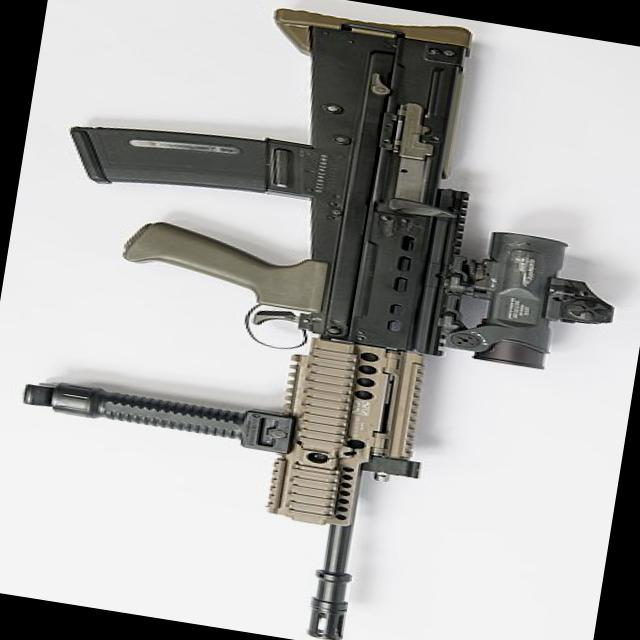long weapon: (26, 0, 590, 639)
